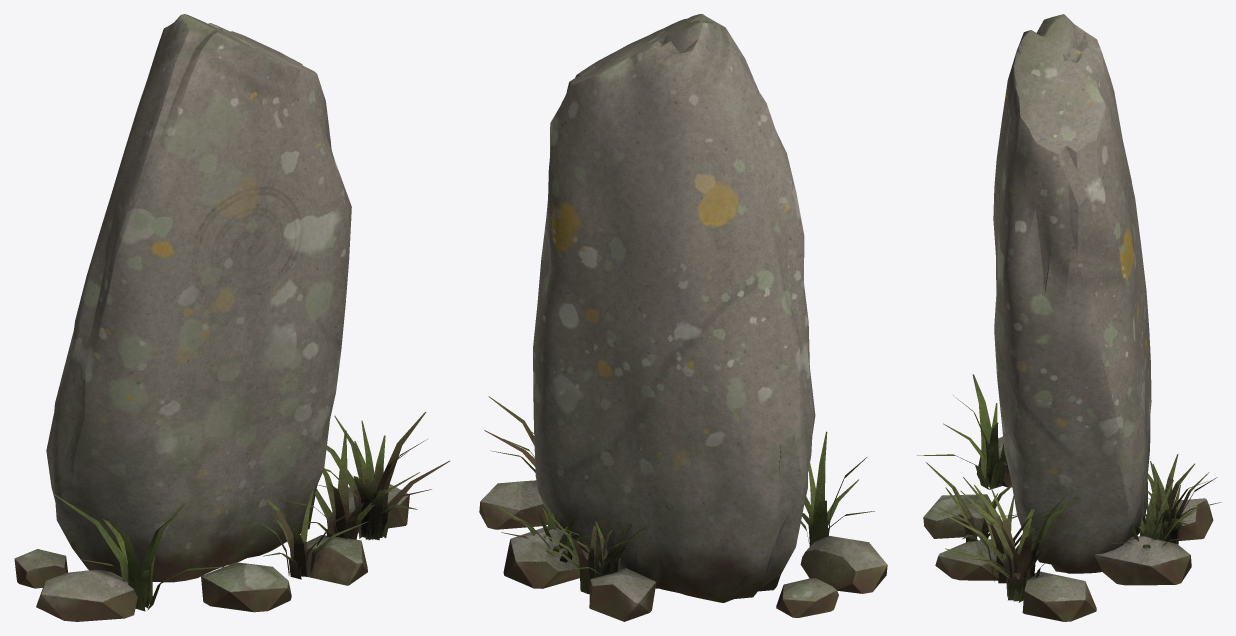
The model's file is standing_stone.glb.
The picture shows the model from 3 angles, left to right: view 1: azimuth 30°, elevation 25°; view 2: azimuth 150°, elevation 25°; view 3: azimuth 270°, elevation 25°; orthographic projection. The views are drawn at different scales.
Visible parts, largest first — view 1: standing_stone_LOD0; view 2: standing_stone_LOD0; view 3: standing_stone_LOD0.
Part boxes in pixels (left/top/right/bottom): standing_stone_LOD0: left=14, top=14, right=449, bottom=621; standing_stone_LOD0: left=479, top=14, right=887, bottom=621; standing_stone_LOD0: left=917, top=14, right=1221, bottom=621.
Size of what is drawn, in the model's own units: 1.74 by 2.22 by 1.21.
Materials: 1 (1 with a texture image).
